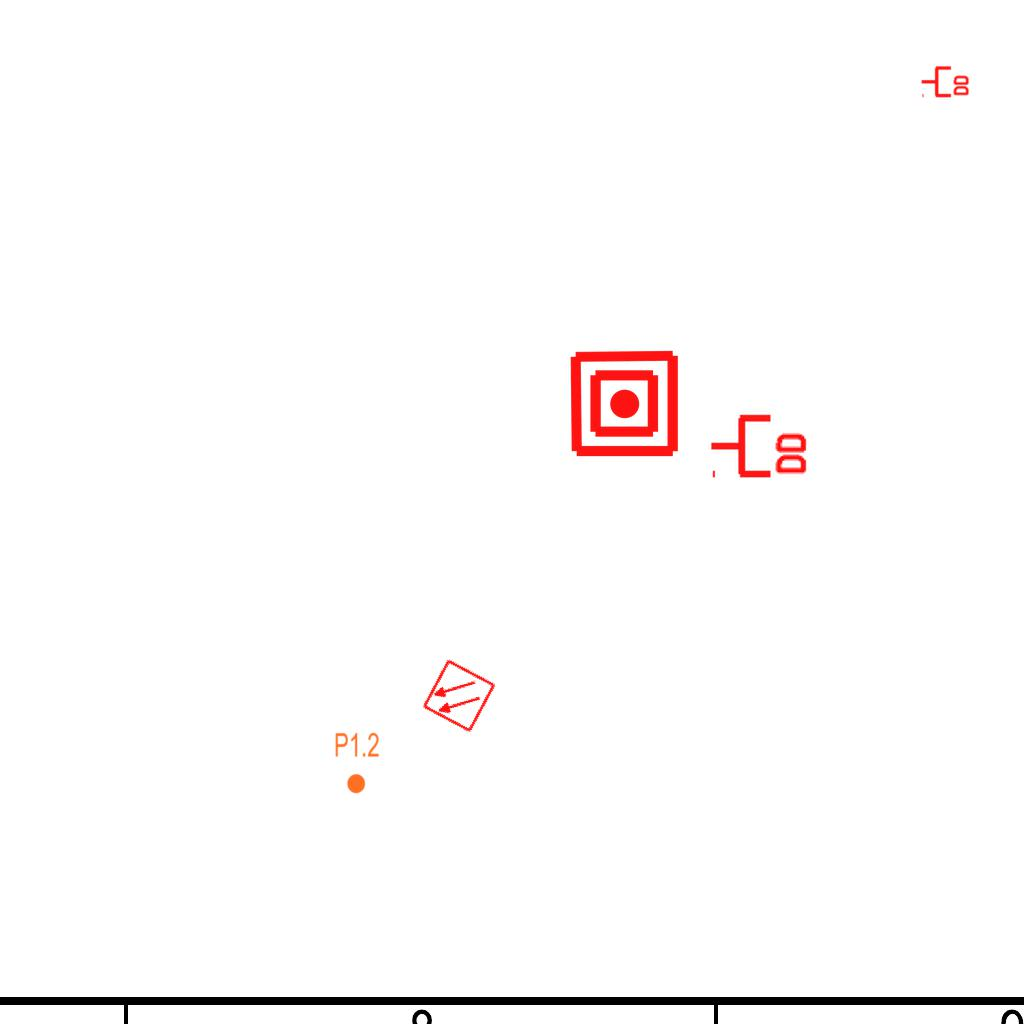Datenanschluss_zweifach: (708, 410, 811, 479), (920, 64, 971, 98)
Downlight_LED_Einbauleuchten_Flur: (334, 731, 380, 795)
NAM-Nichtautomatischer_Melder: (568, 347, 681, 460)
RMO_Rauchmelder_optischer: (421, 658, 497, 734)
